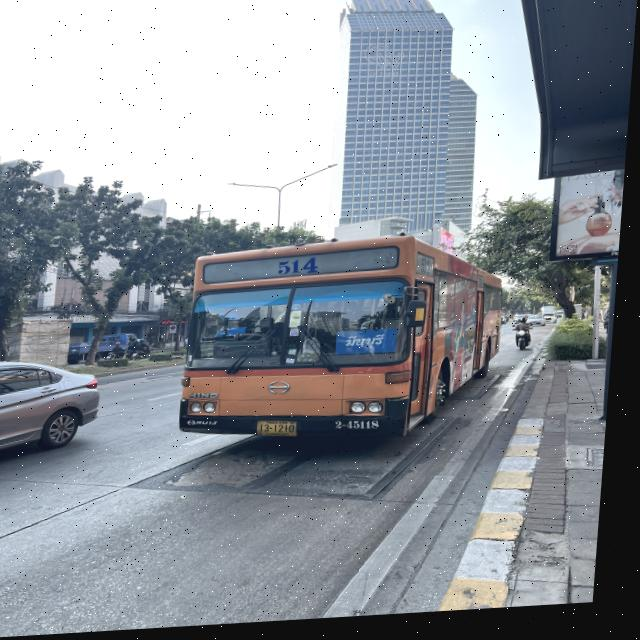BMTA-bus: (172, 230, 516, 461)
Bus-Line-Number: (273, 258, 330, 281)
Destination-Sign-Normal: (339, 331, 405, 362)
